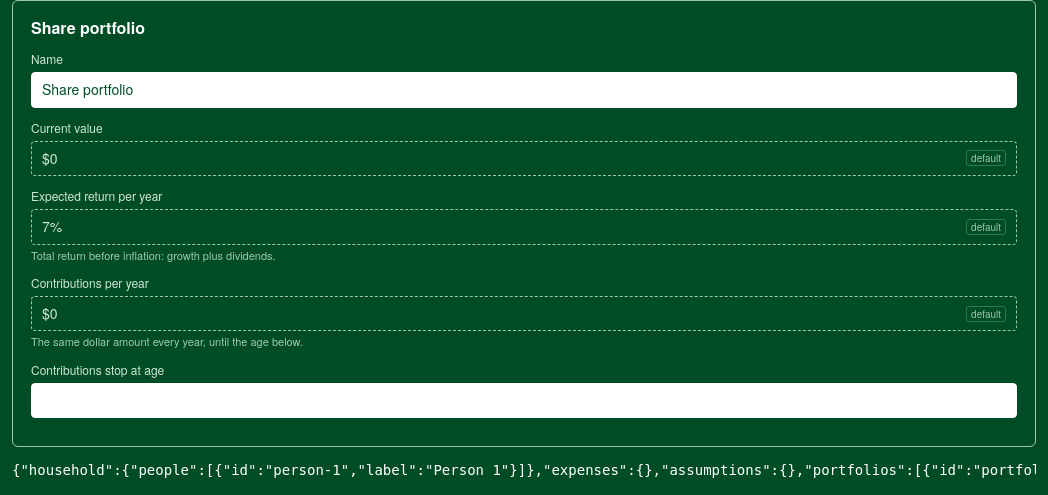
Scenario: PortfolioSection › contributions per year › stores a typed amount
Type "30000" into the field labelled "Contributions per year" at (501, 314), box [42, 304, 960, 323]
Then press Enter
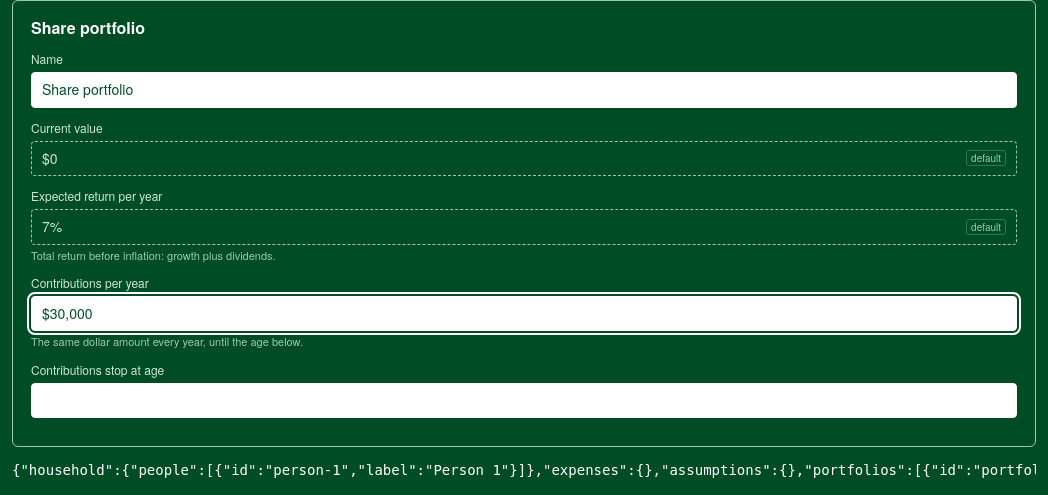
Now the field labelled "Contributions per year" holds "$30,000", box [42, 304, 1006, 323]
